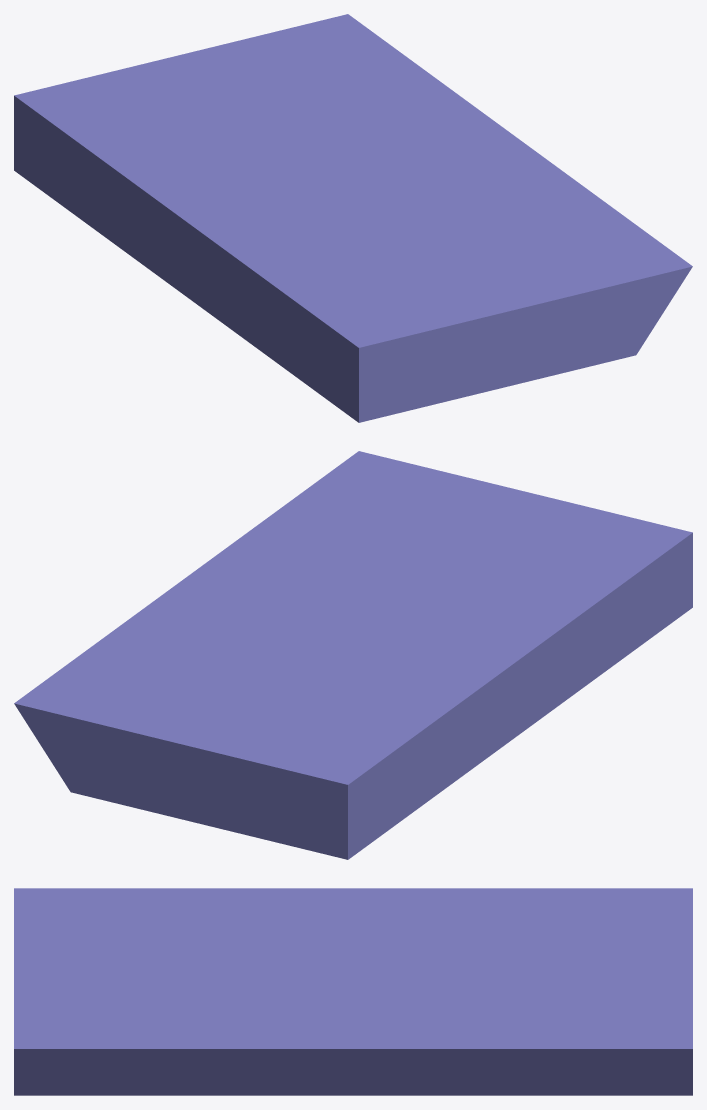
The picture shows the model from 3 angles, top to bottom: view 1: azimuth 30°, elevation 25°; view 2: azimuth 150°, elevation 25°; view 3: azimuth 270°, elevation 25°; orthographic projection.
Visible parts, largest first — view 1: geometry_12; view 2: geometry_12; view 3: geometry_12.
Part boxes in pixels (box(x1,y1,x2,y2)): geometry_12: box(14, 14, 692, 422); geometry_12: box(14, 451, 692, 859); geometry_12: box(14, 888, 692, 1095).
Size of the model in its own units: 0.0224 by 0.0048 by 0.04.
